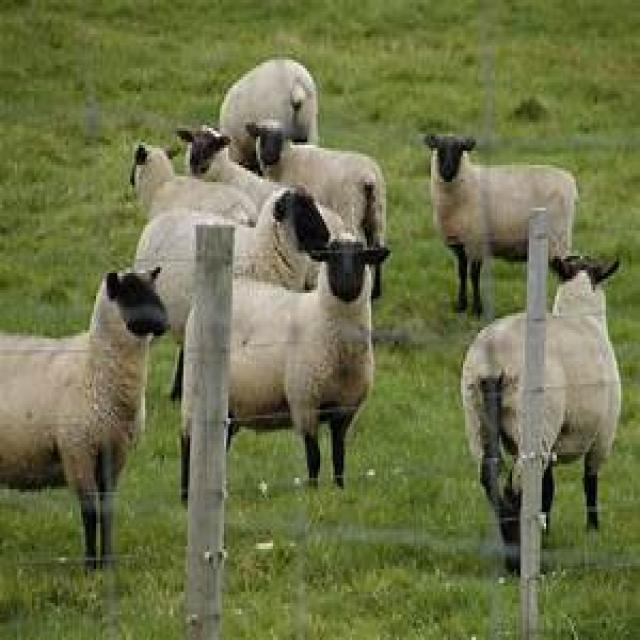goat: (459, 276, 623, 640), (0, 270, 169, 572), (228, 239, 390, 489), (425, 137, 578, 319), (256, 131, 390, 250), (218, 57, 320, 171), (233, 191, 331, 293), (137, 210, 226, 279)
